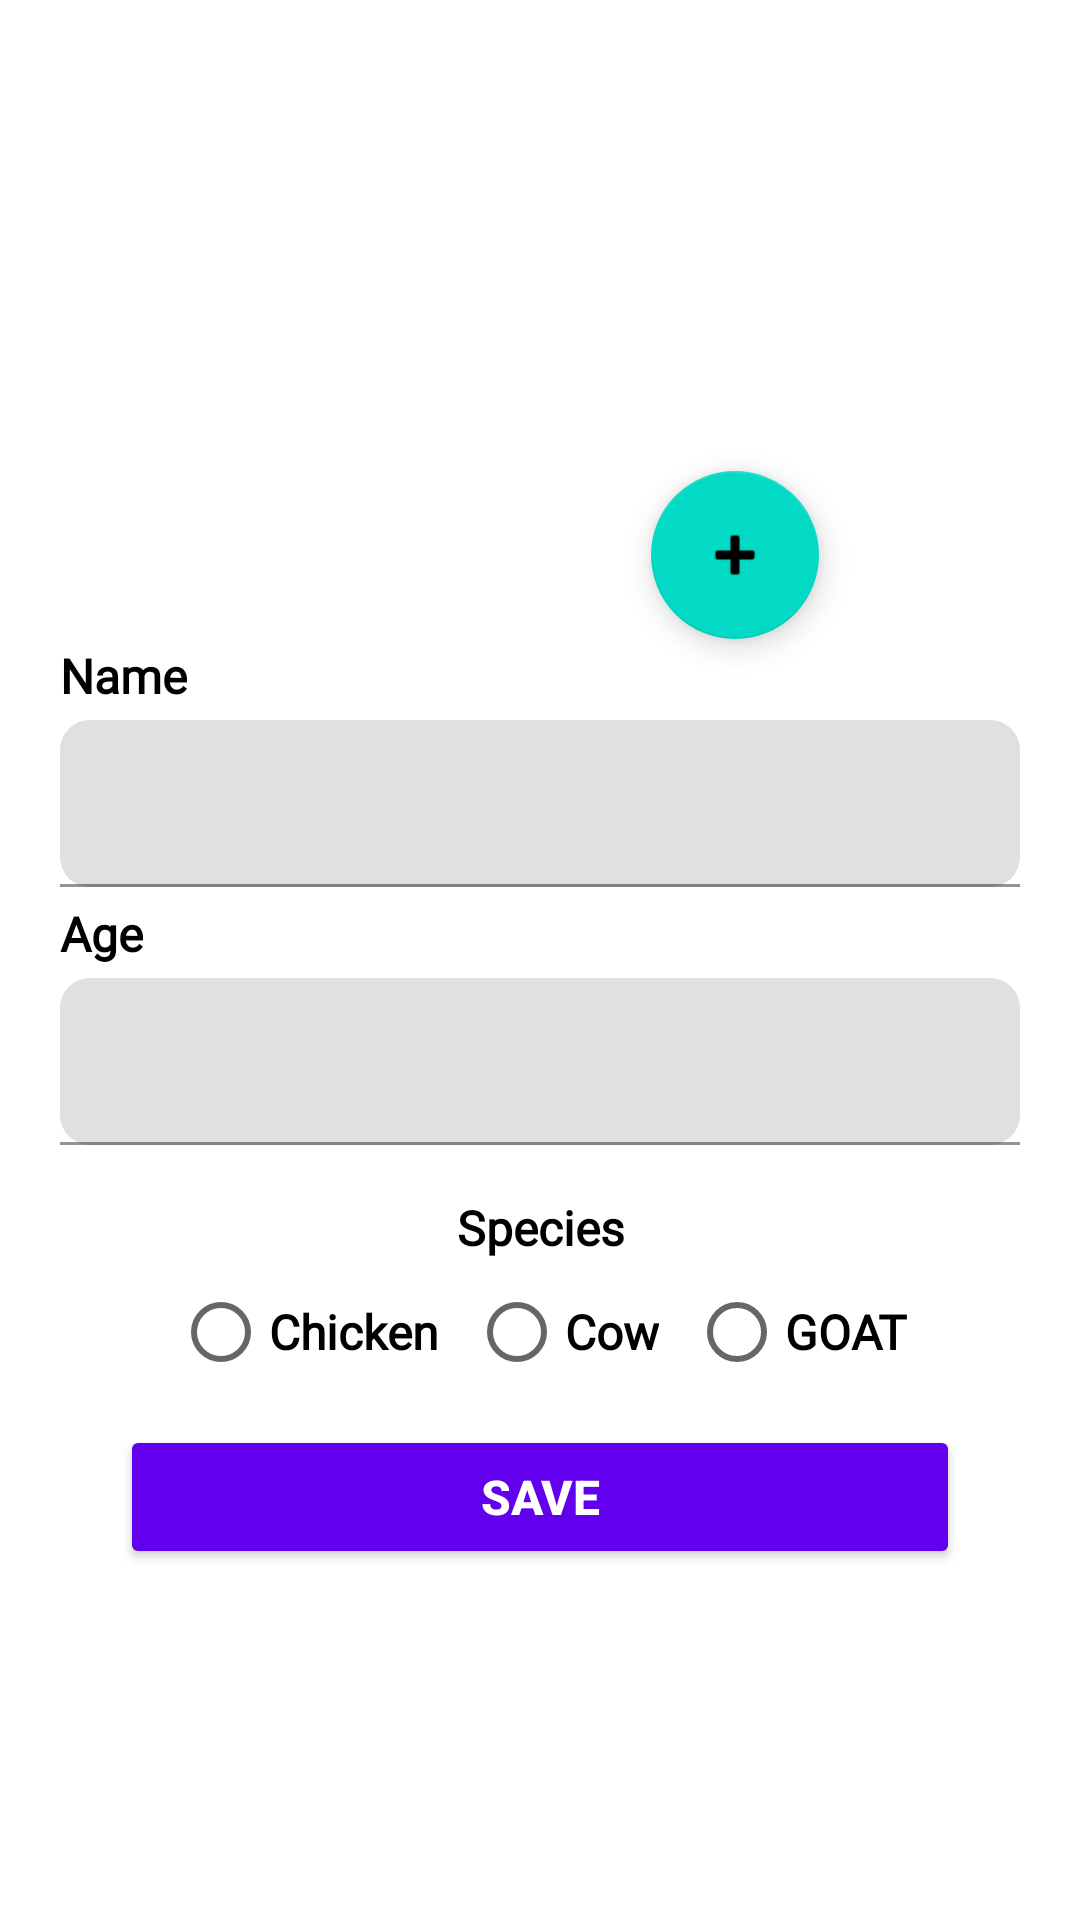

Screen size 1080*1920. Icon name, then its center in pixels as point (x, y):
add: point (735, 555)
